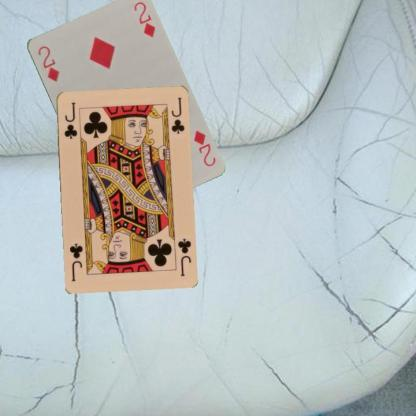2d: (190, 127, 217, 168), (34, 42, 60, 82)
Jc: (174, 235, 192, 277), (61, 99, 79, 140)
